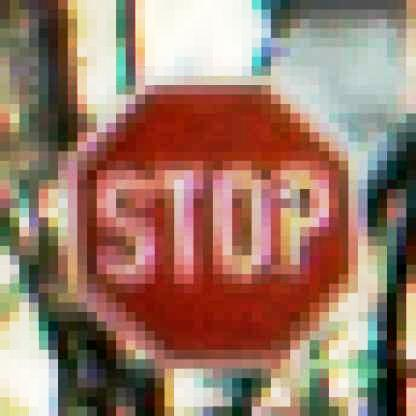Stop Sign: (69, 70, 370, 369)
